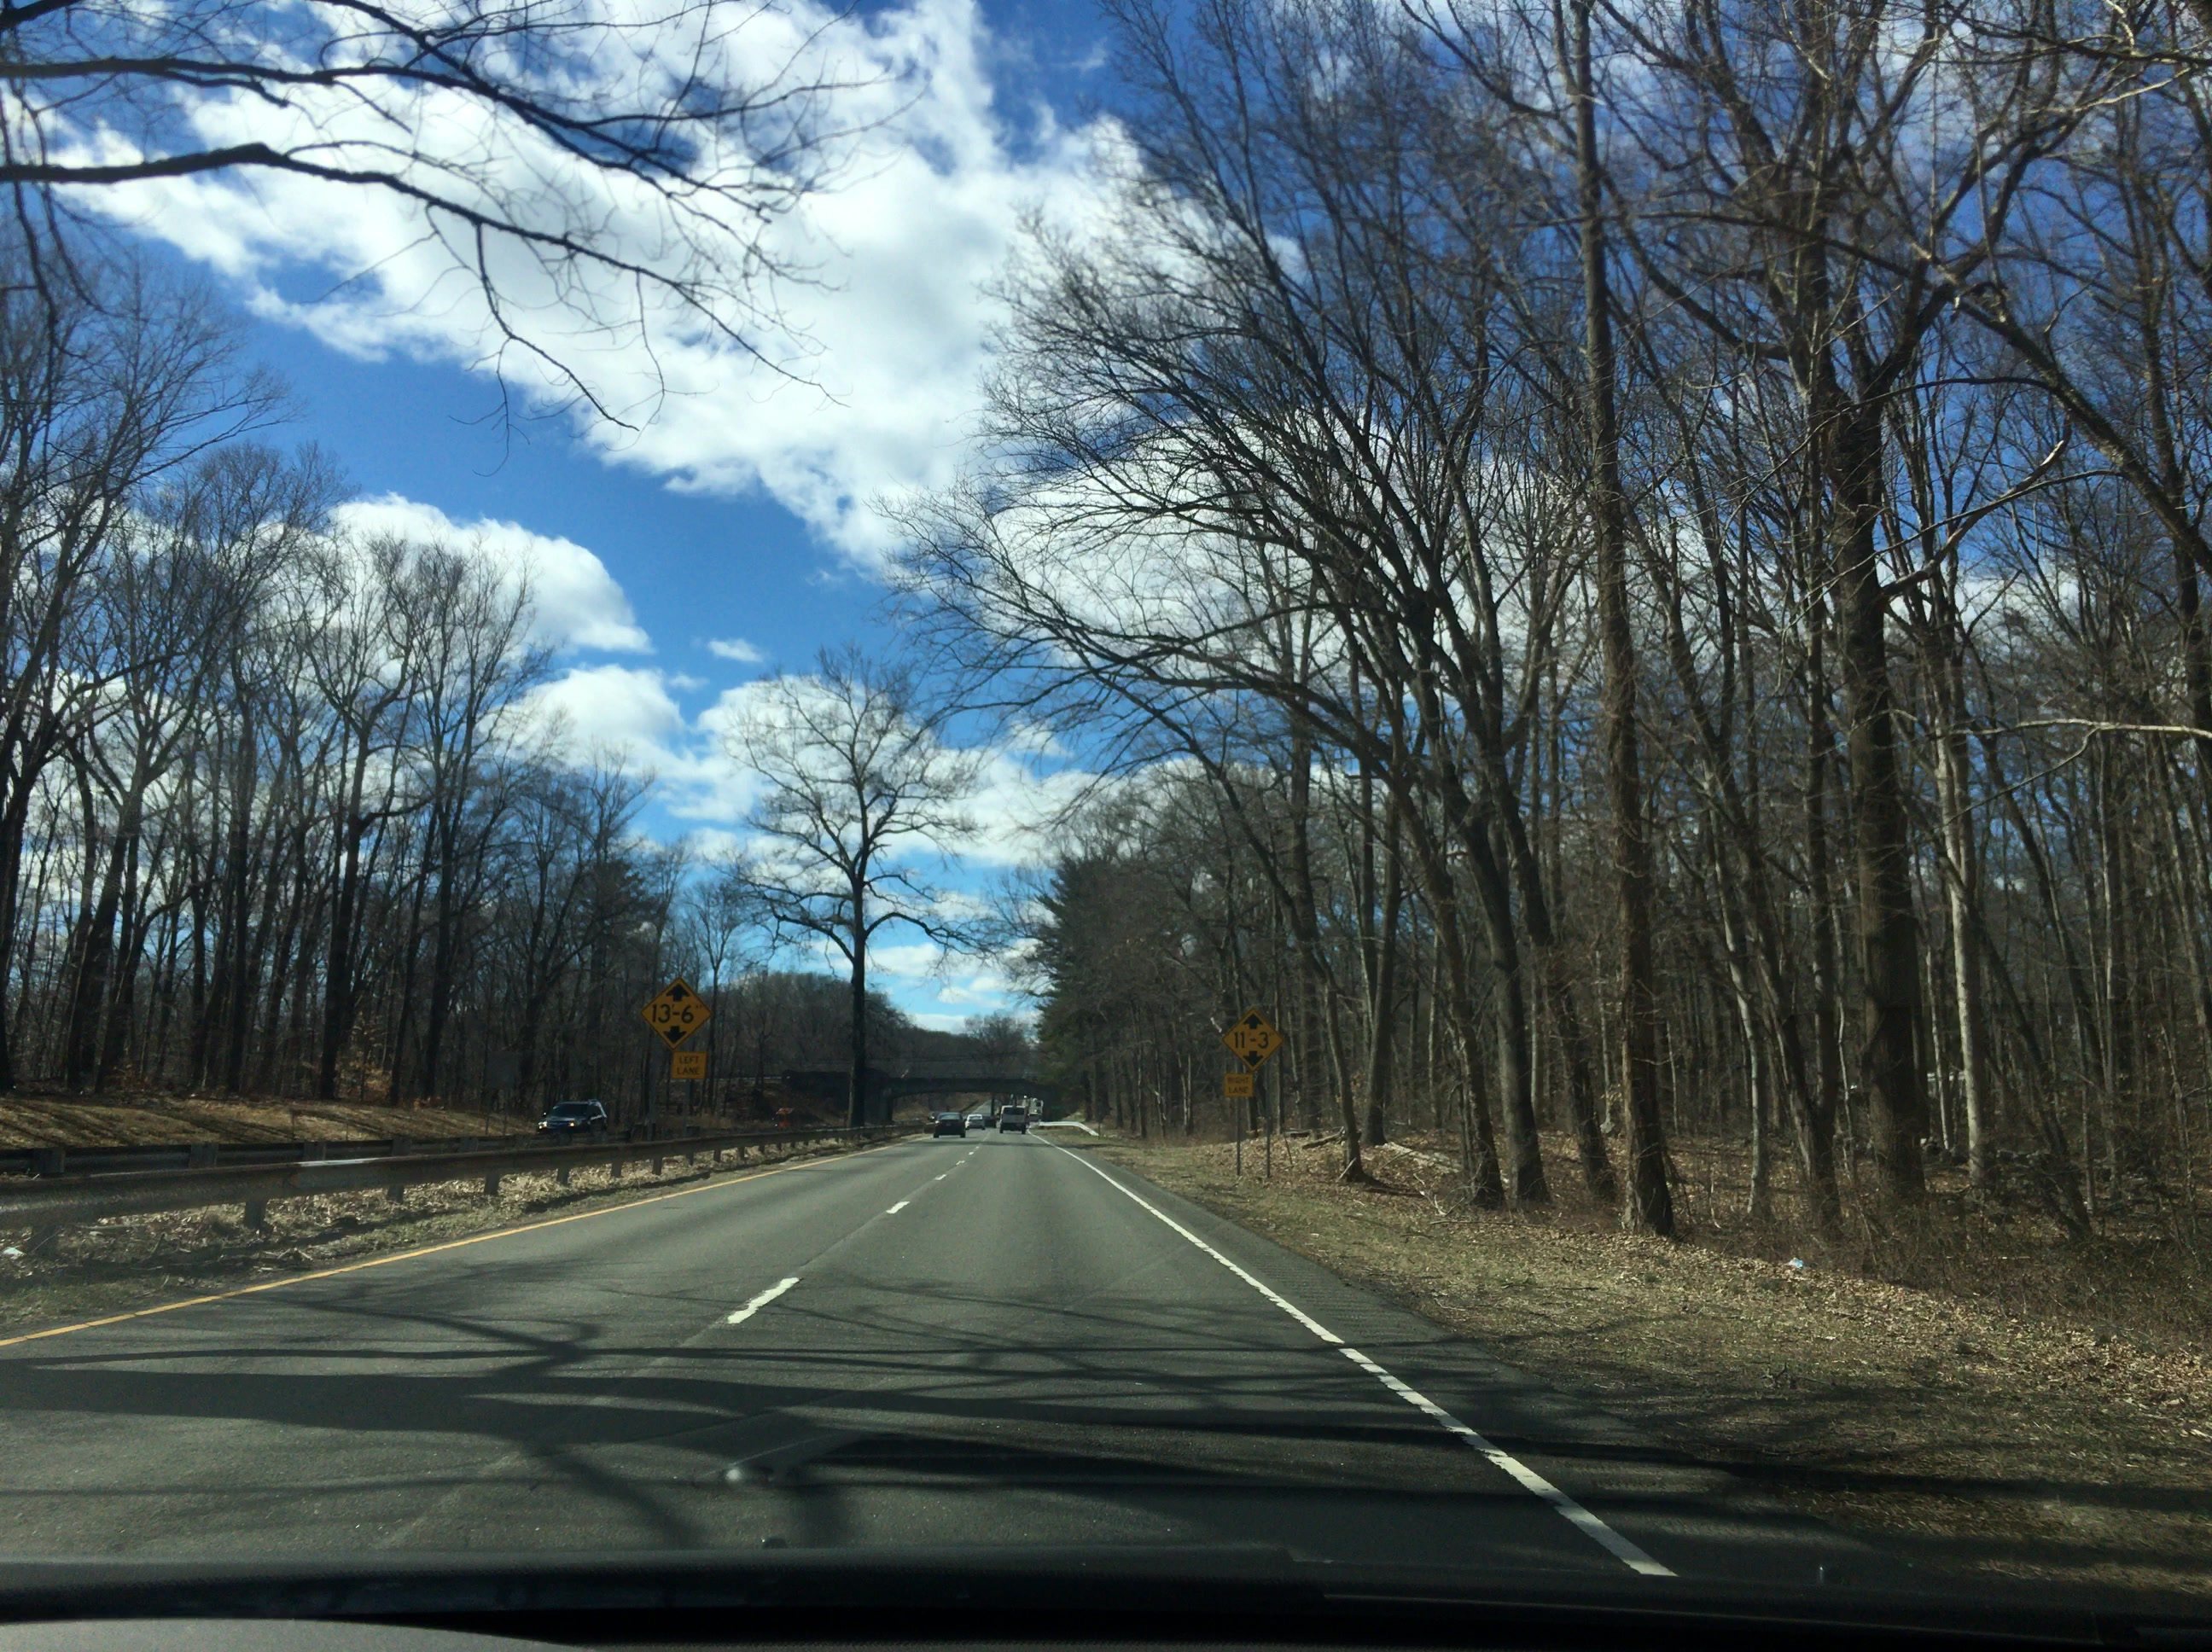low-clearance-sign: (640, 977, 713, 1052), (1221, 1006, 1284, 1074)
